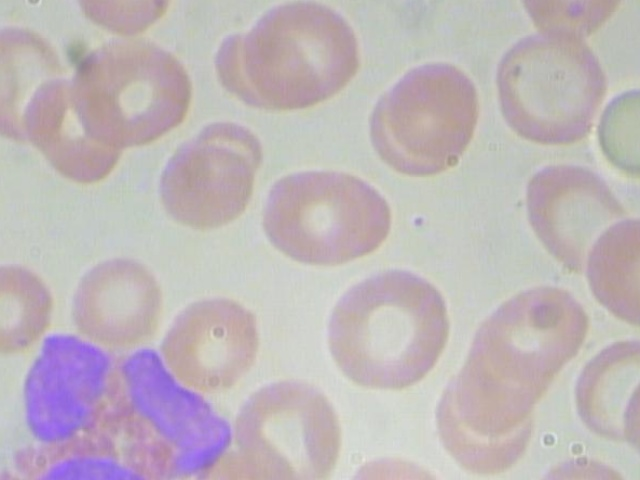RBC: (315, 265, 459, 403), (517, 156, 635, 283), (66, 31, 190, 150), (491, 28, 609, 150), (240, 0, 370, 109), (229, 374, 349, 480), (259, 169, 379, 267), (157, 291, 274, 390), (484, 279, 594, 381), (379, 58, 481, 161), (150, 141, 255, 230), (71, 250, 163, 346)
WBC: (0, 324, 244, 480)
